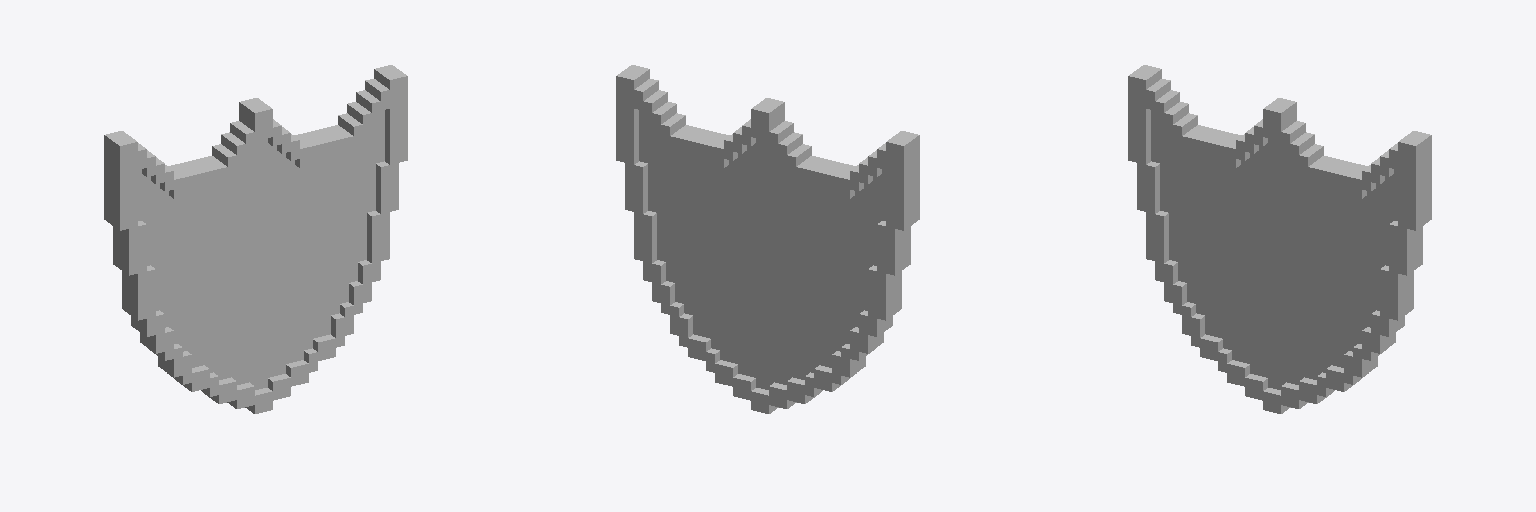
Rendered from Shield.obj.
3 views of the same model, side by side, from view 1: azimuth 30°, elevation 25°; view 2: azimuth 150°, elevation 25°; view 3: azimuth 330°, elevation 25° (orthographic).
Visible parts, largest first — view 1: object 1; view 2: object 1; view 3: object 1.
Part boxes in pixels (x1,y1,x2,y2): object 1: (104,65,407,413); object 1: (616,65,919,413); object 1: (1128,65,1431,413).
Bounding box in the file's own units: 3.2 × 3.2 × 0.3.